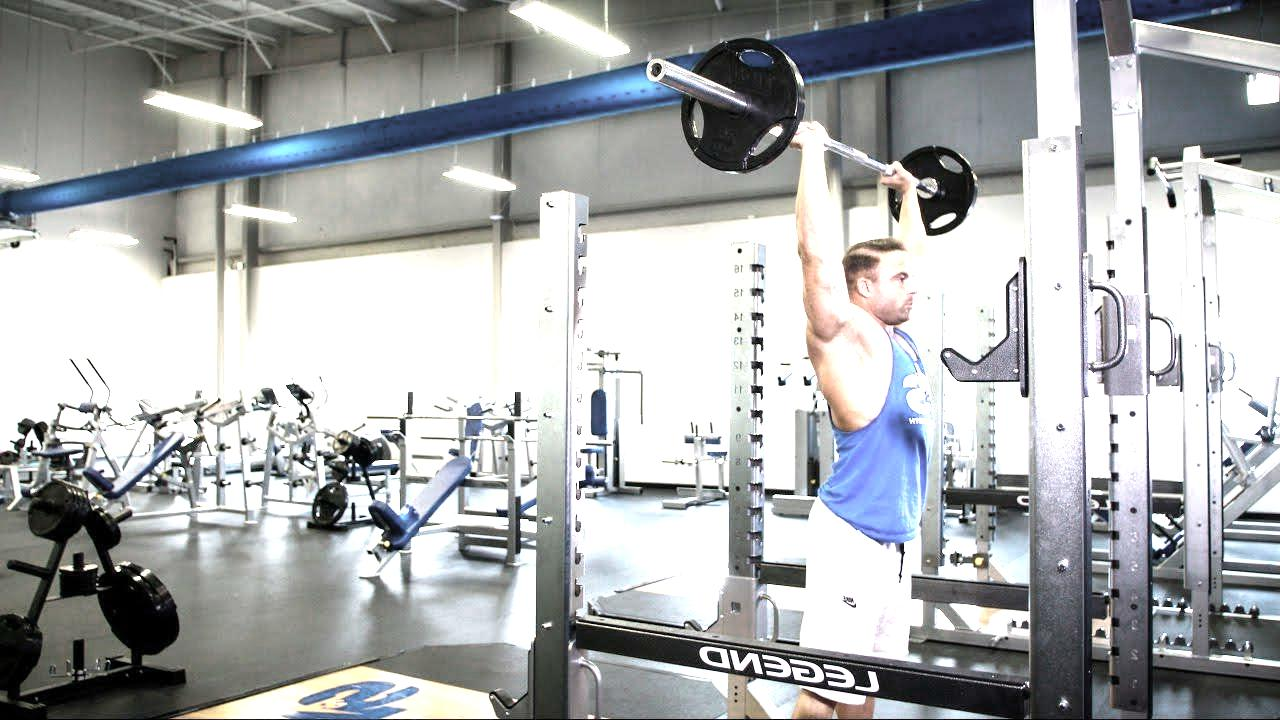Barbell: (639, 50, 675, 88)
